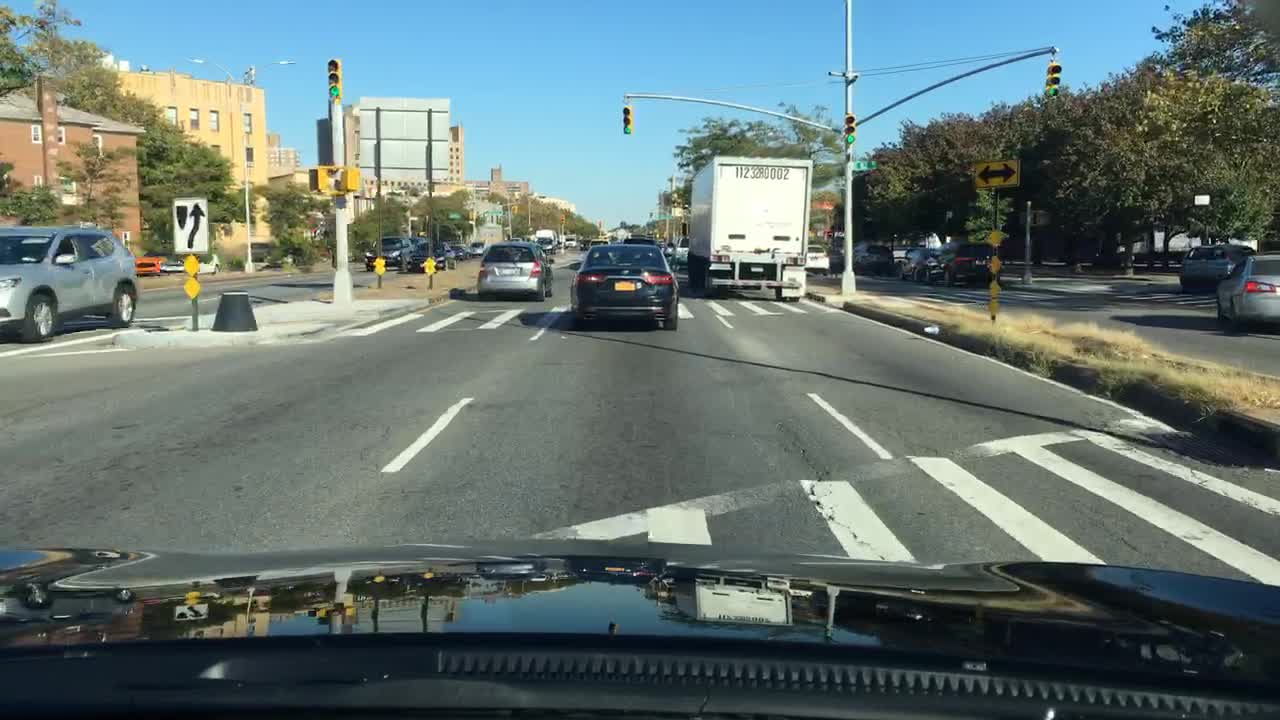car: (0, 223, 136, 345), (571, 242, 682, 331), (1217, 255, 1279, 333), (476, 241, 552, 300), (921, 240, 991, 292), (1177, 245, 1253, 290), (891, 241, 936, 283), (405, 241, 457, 269), (364, 233, 403, 269), (849, 245, 892, 276), (809, 244, 829, 277), (673, 238, 691, 268), (159, 256, 186, 275), (195, 254, 219, 275), (133, 258, 160, 276), (465, 236, 490, 255), (537, 233, 556, 257), (827, 247, 844, 271), (451, 242, 466, 264), (621, 234, 655, 243), (661, 240, 676, 256), (576, 236, 590, 248), (519, 235, 539, 243), (406, 235, 428, 242), (609, 231, 626, 240), (591, 237, 605, 246), (503, 237, 524, 240)
traffic light: (1044, 59, 1061, 97), (327, 58, 342, 98), (309, 168, 329, 194), (338, 168, 359, 192), (620, 102, 633, 135), (846, 113, 857, 145)
traffic sign: (358, 96, 453, 179), (170, 194, 209, 252), (975, 159, 1022, 188), (853, 159, 875, 171), (448, 211, 464, 220), (487, 209, 504, 215)
truck: (681, 153, 816, 301)
